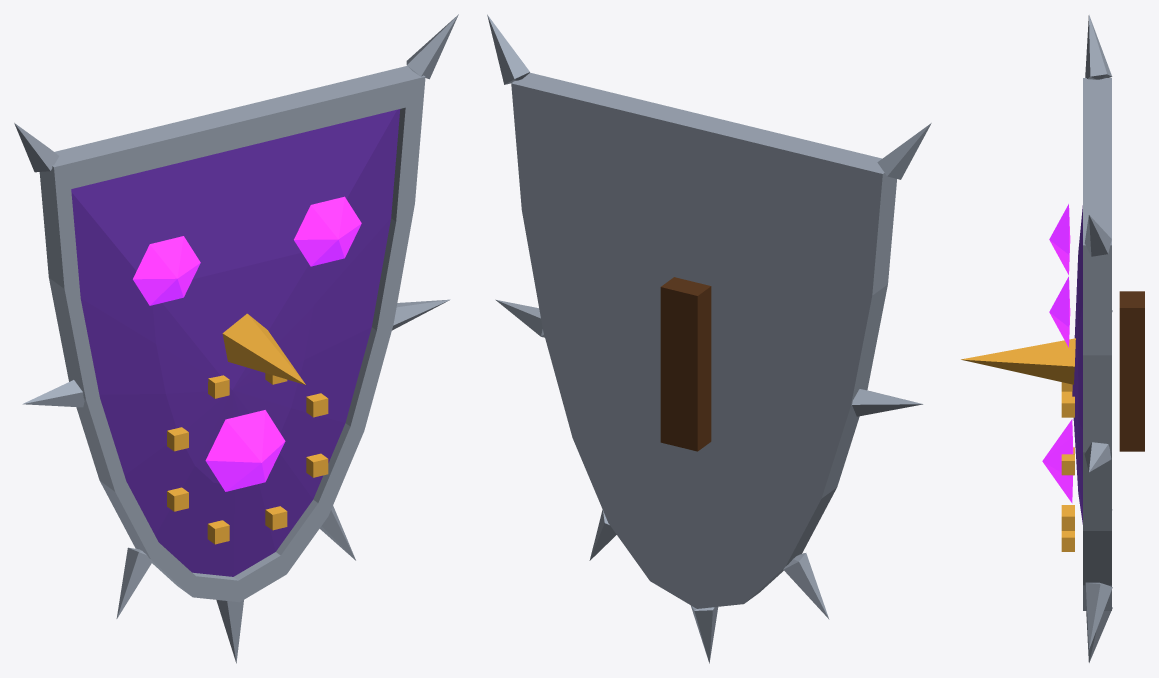
The model's file is shield_spiked_epic.glb.
3 renders of one model, left to right at view 1: azimuth 30°, elevation 25°; view 2: azimuth 150°, elevation 25°; view 3: azimuth 270°, elevation 25°, orthographic. The views are drawn at different scales.
Parts seen in each view (by area): view 1: shield_spiked_epic_export; view 2: shield_spiked_epic_export; view 3: shield_spiked_epic_export.
Part boxes in pixels (x1,y1,x2,y2): shield_spiked_epic_export: (14, 14, 458, 663); shield_spiked_epic_export: (487, 14, 931, 663); shield_spiked_epic_export: (961, 15, 1144, 662).
Size of the model in its own units: 71.85 by 91.91 by 28.
